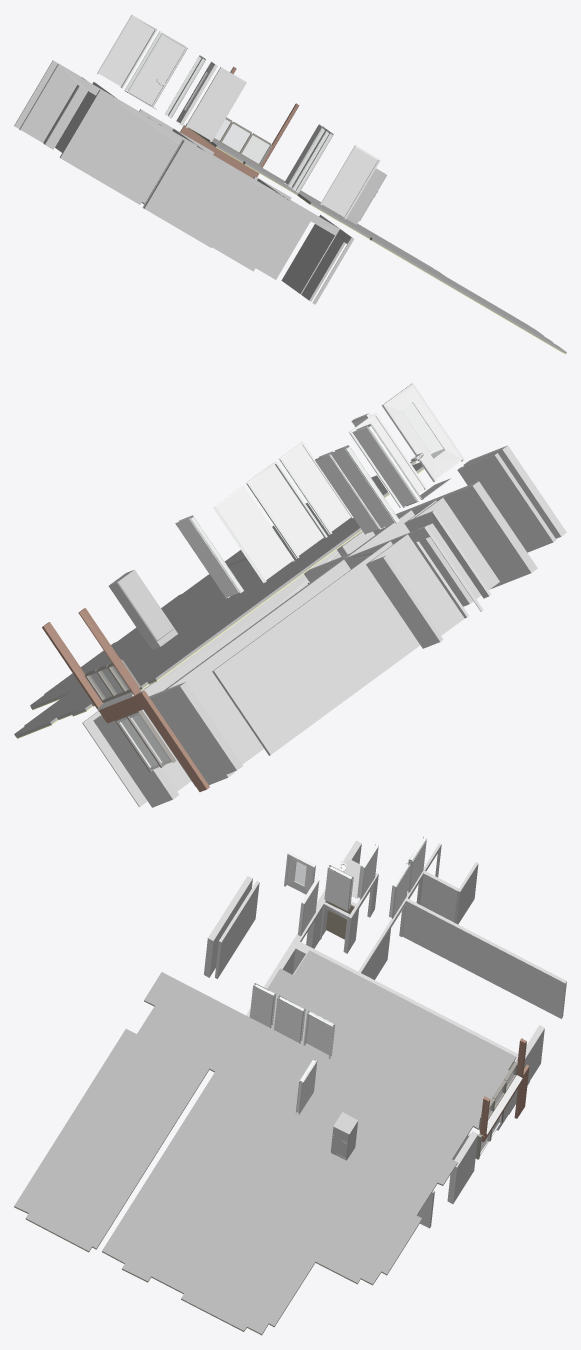
3 renders of one model, top to bottom at view 1: azimuth 30°, elevation 25°; view 2: azimuth 150°, elevation 25°; view 3: azimuth 270°, elevation 25°, orthographic. The views are drawn at different scales.
Parts seen in each view (by area): view 1: mesh; view 2: mesh; view 3: mesh.
Boxes of the visible parts, x1,y1,x2,y2 form: mesh: (14,14,566,354); mesh: (14,383,566,807); mesh: (14,836,566,1335).
Bounding box in the file's own units: 16.77 × 12.54 × 18.44.
